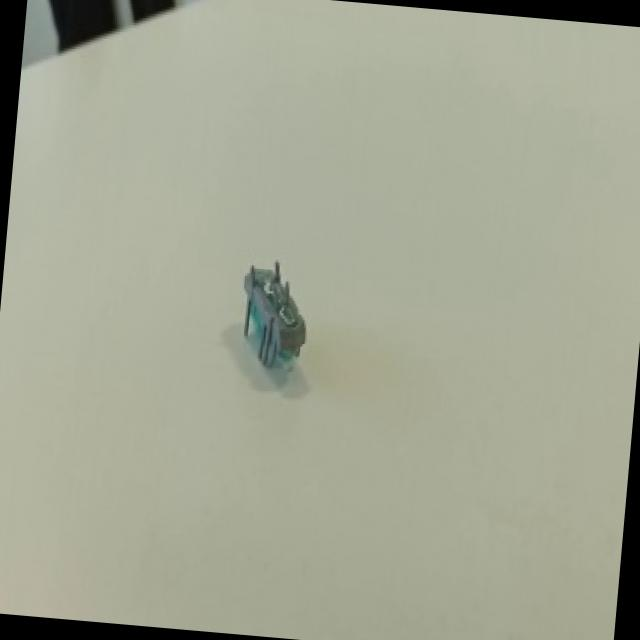5_NanoBug_GrisClaro: (214, 226, 340, 390)
